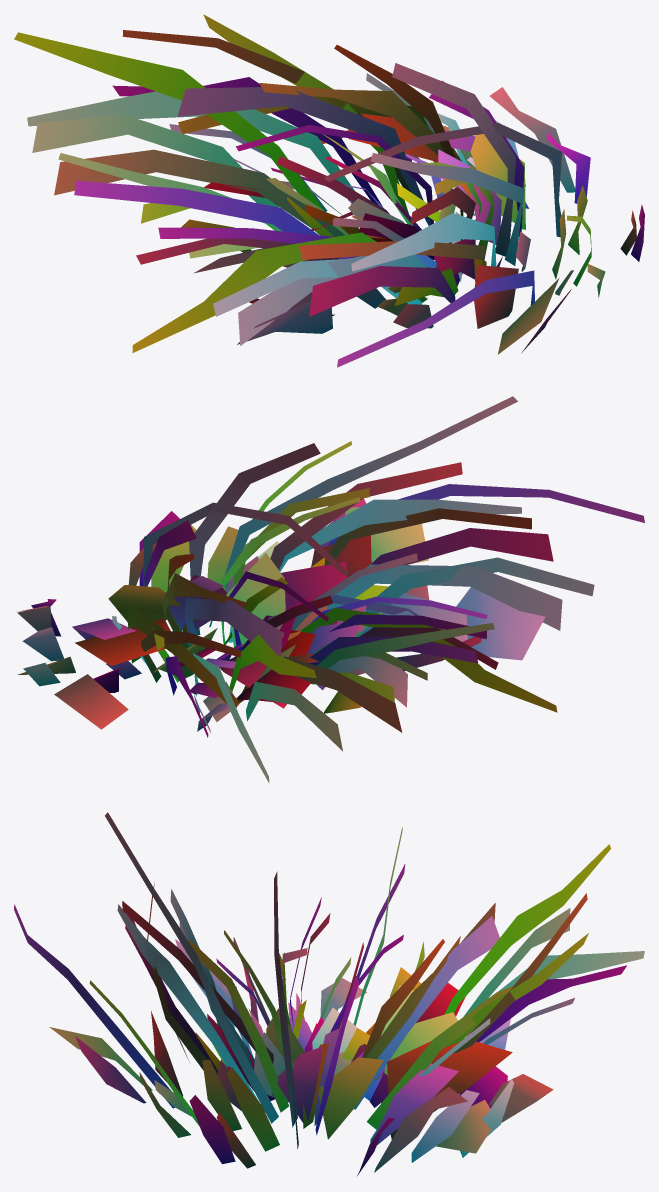
Rendered from Wild_Grass_vdilbaiia_Mid_vdilbaiia_VarG_LOD2.fbx.
3 renders of one model, top to bottom at view 1: azimuth 30°, elevation 25°; view 2: azimuth 150°, elevation 25°; view 3: azimuth 270°, elevation 25°, orthographic. The views are drawn at different scales.
Parts seen in each view (by area): view 1: _c614_VarG_LOD3; view 2: _c614_VarG_LOD3; view 3: _c614_VarG_LOD3.
Boxes of the visible parts, x1=… form: _c614_VarG_LOD3: x1=14, y1=14, x2=644, y2=367; _c614_VarG_LOD3: x1=16, y1=396, x2=644, y2=782; _c614_VarG_LOD3: x1=14, y1=812, x2=644, y2=1175.
Size of the model in its own units: 48.17 by 21.97 by 57.8.
